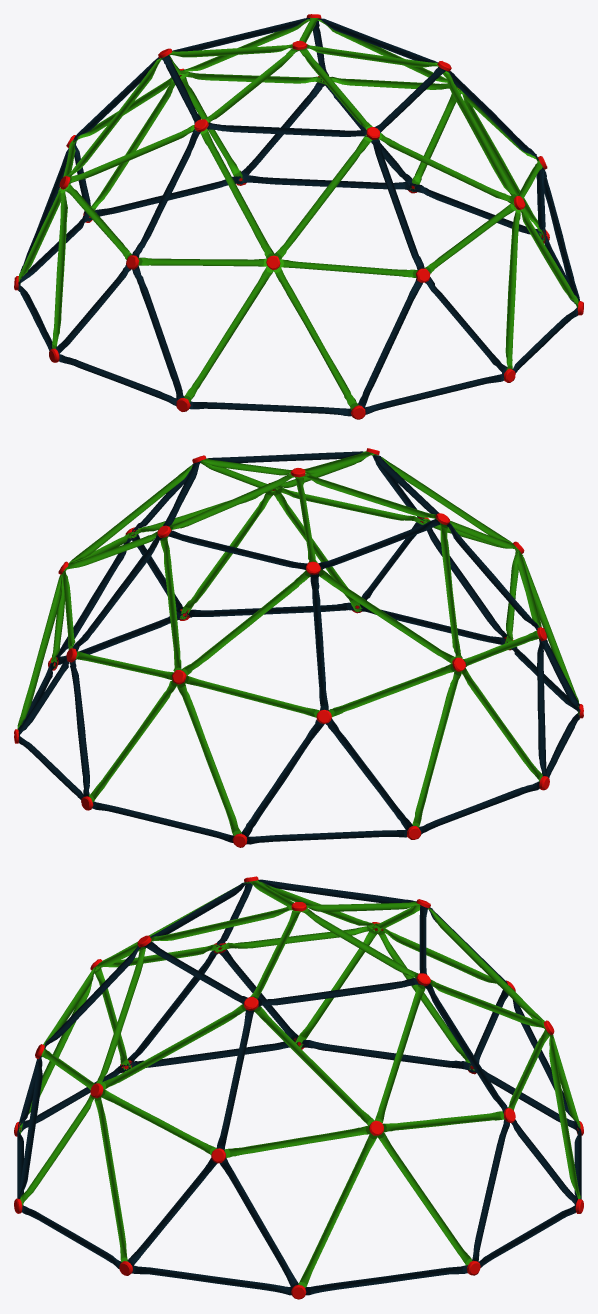
The model's file is 17020- Domo Escalador.FBX.
The picture shows the model from 3 angles, top to bottom: view 1: azimuth 30°, elevation 25°; view 2: azimuth 150°, elevation 25°; view 3: azimuth 270°, elevation 25°; orthographic projection. The views are drawn at different scales.
Bounding box in the file's own units: 110 × 54.88 × 105.
